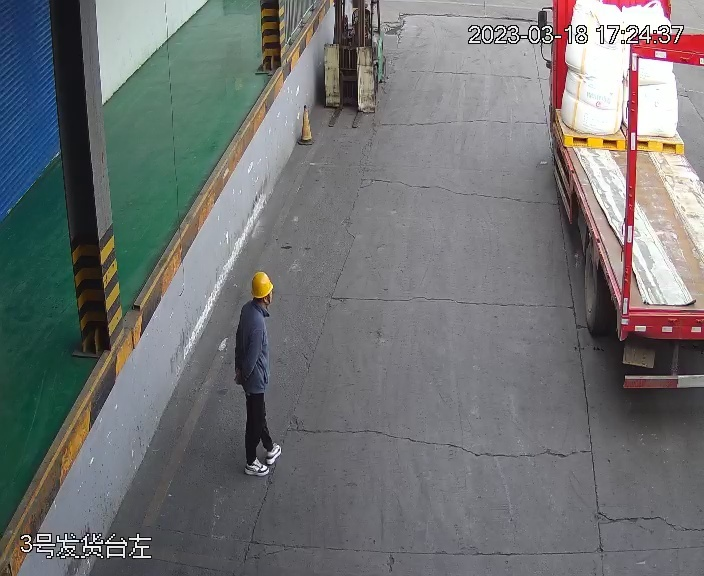head: (237, 269, 275, 334)
helmet: (249, 269, 274, 298)
people: (231, 270, 287, 476)
truck: (531, 3, 704, 392)
